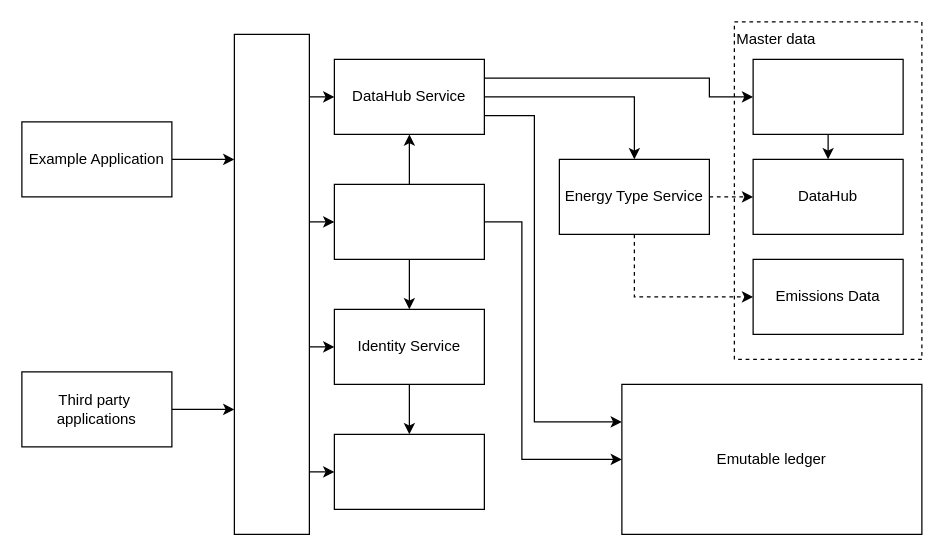
The diagram is 944 pixels wide and 556 high, and some of its shapes have lost their labels. Each missing label, with the centre of its shape:
"Account Service" goes at (408,221).
"API" goes at (271,283).
"ElOverblik" goes at (827,96).
"OAuth2 Service" goes at (408,471).
